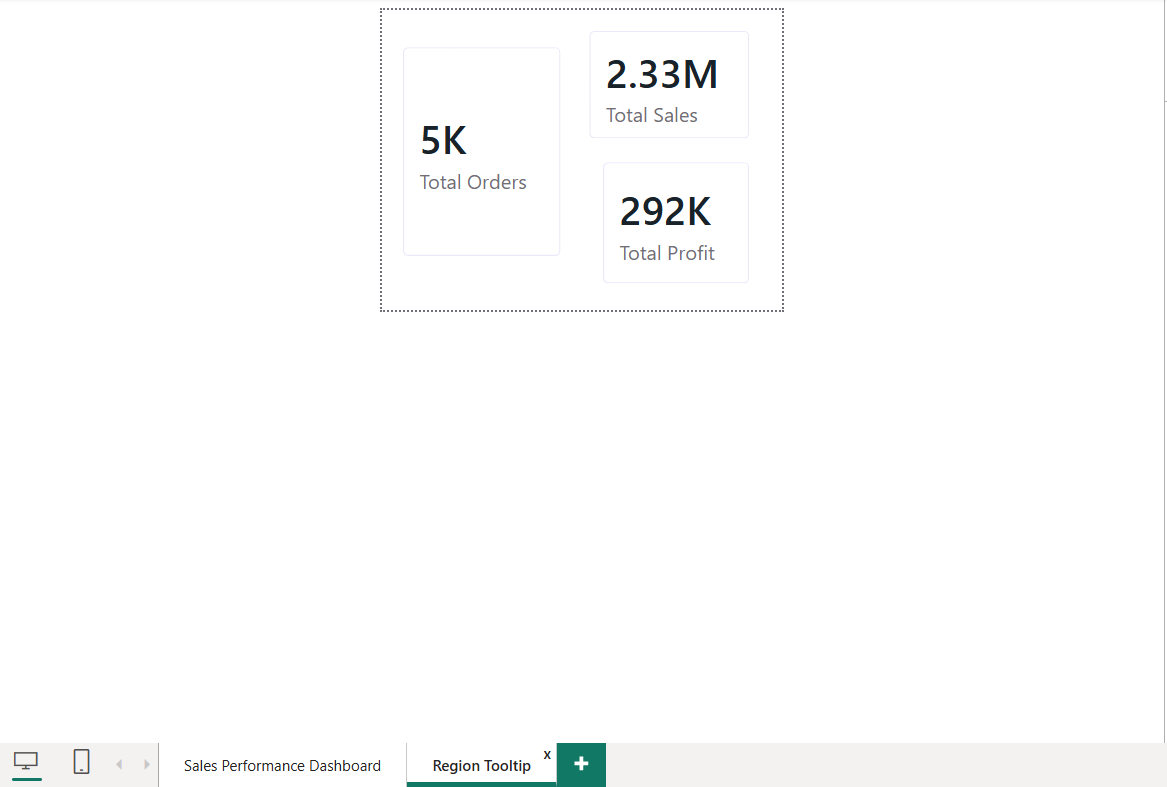

What the dashboard file says about the page in this screenshot:
{"tool":"powerbi","page":{"name":"Region Tooltip","canvas":[320,240],"ordinal":1},"visuals":[{"type":"cardVisual","fields":{"Data":["samplesuperstore.Total Orders"]},"box":[0,13,160,201],"z":0},{"type":"cardVisual","fields":{"Data":["samplesuperstore.Total Profit"]},"box":[160,105,151,131],"z":1},{"type":"cardVisual","fields":{"Data":["samplesuperstore.Total Sales"]},"box":[149,0,162,120],"z":2}]}

Visuals, with their boxes on the page's 320x240 design canvas (x1, y1, x2, y2). These are canvas units, not pixel positions in the 1167x787 screenshot, which may show the page scaled, cropped or inside an application window:
cardVisual - samplesuperstore.Total Orders: [left=0, top=13, right=160, bottom=214]
cardVisual - samplesuperstore.Total Profit: [left=160, top=105, right=311, bottom=236]
cardVisual - samplesuperstore.Total Sales: [left=149, top=0, right=311, bottom=120]
